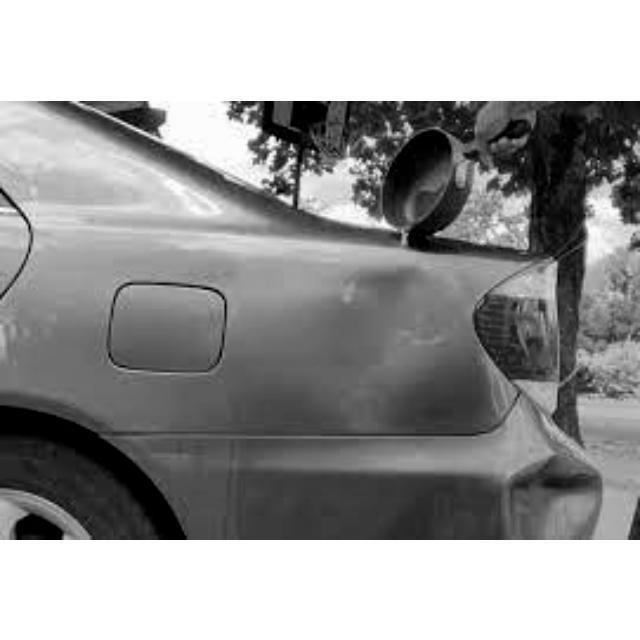quaterpanel-dent: (17, 232, 482, 468)
rear-bumper-dent: (345, 391, 628, 537)
